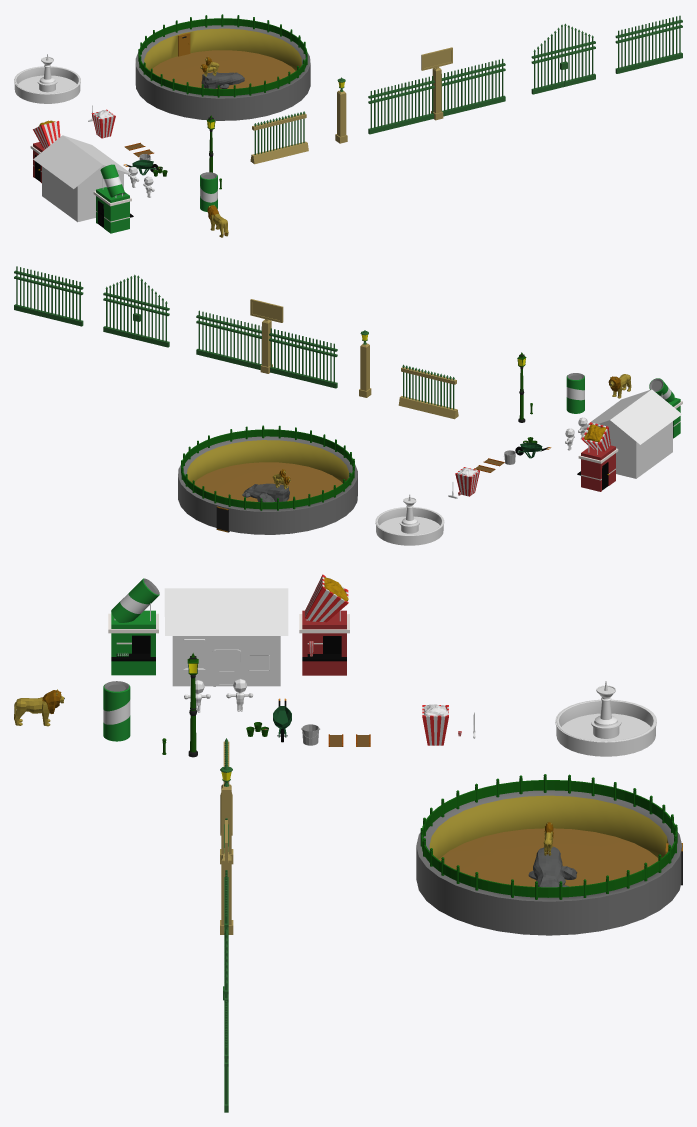
The model's file is Mamy_Hediye.fbx.
The picture shows the model from 3 angles, top to bottom: view 1: azimuth 30°, elevation 25°; view 2: azimuth 150°, elevation 25°; view 3: azimuth 270°, elevation 25°; orthographic projection. The views are drawn at different scales.
Visible parts, largest first — view 1: Plane.005, Cube.001, Cube.037, Circle, Cylinder.017, Cylinder.010, Cylinder.008, Cylinder.013, Cylinder.009, Gırıs_stun, Cylinder.021, Cylinder.011 (+11 smaller); view 2: Plane.005, Cube.001, Cube.037, Circle, Sphere, Cylinder.010, Cylinder.008, Cylinder.009, Cylinder.013, Gırıs_stun, Cylinder.011, Cylinder.021 (+10 smaller); view 3: Plane.005, Cube.001, Cube.037, Circle, Sphere, Cylinder.017, Cylinder.021, Cylinder.007, Cube.029, Plane.002, Gırıs_stun.
Part boxes in pixels (x1=…): Plane.005: x1=135, y1=25, x2=310, y2=120; Cube.001: x1=33, y1=135, x2=132, y2=222; Cube.037: x1=138, y1=18, x2=307, y2=95; Circle: x1=14, y1=54, x2=80, y2=103; Cylinder.017: x1=93, y1=164, x2=133, y2=233; Cylinder.010: x1=534, y1=26, x2=593, y2=89; Cylinder.008: x1=370, y1=76, x2=433, y2=128; Cylinder.013: x1=618, y1=15, x2=680, y2=68; Cylinder.009: x1=441, y1=58, x2=503, y2=110; Gırıs_stun: x1=421, y1=47, x2=452, y2=120; Cylinder.021: x1=138, y1=14, x2=307, y2=97; Cylinder.011: x1=254, y1=118, x2=304, y2=154; Plane.005: x1=178, y1=436, x2=357, y2=534; Cube.001: x1=580, y1=389, x2=681, y2=478; Cube.037: x1=181, y1=429, x2=354, y2=509; Circle: x1=375, y1=494, x2=444, y2=545; Sphere: x1=577, y1=422, x2=618, y2=491; Cylinder.010: x1=106, y1=277, x2=166, y2=341; Cylinder.008: x1=270, y1=328, x2=334, y2=382; Cylinder.009: x1=198, y1=310, x2=261, y2=364; Cylinder.013: x1=16, y1=266, x2=80, y2=320; Gırıs_stun: x1=250, y1=299, x2=283, y2=373; Cylinder.011: x1=403, y1=372, x2=454, y2=409; Cylinder.021: x1=181, y1=425, x2=354, y2=510; Plane.005: x1=416, y1=790, x2=682, y2=935; Cube.001: x1=164, y1=588, x2=288, y2=686; Cube.037: x1=421, y1=780, x2=677, y2=897; Circle: x1=555, y1=681, x2=656, y2=756; Sphere: x1=299, y1=574, x2=349, y2=675; Cylinder.017: x1=108, y1=578, x2=159, y2=675; Cylinder.021: x1=420, y1=774, x2=677, y2=899; Cylinder.007: x1=103, y1=681, x2=130, y2=741; Cube.029: x1=533, y1=846, x2=565, y2=887; Plane.002: x1=14, y1=689, x2=64, y2=726; Gırıs_stun: x1=220, y1=820, x2=233, y2=934.
Size of the model in its own units: 8158 by 1123 by 4960.
